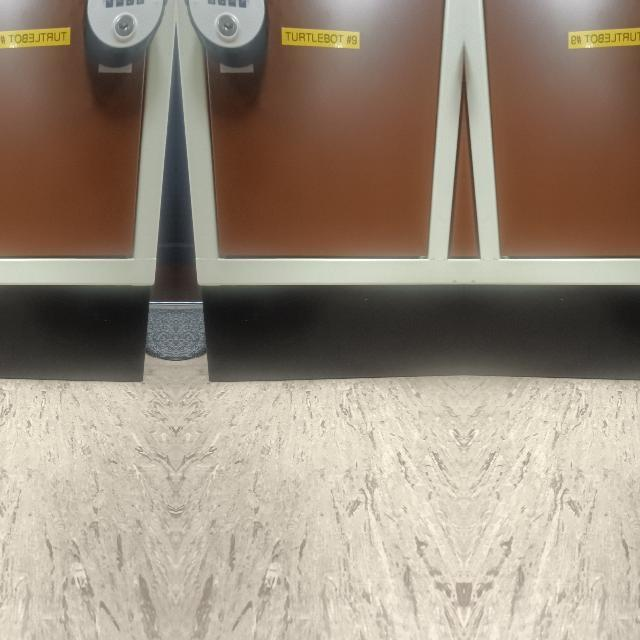obstacle: (180, 55, 464, 382), (463, 55, 640, 382), (0, 55, 170, 382)
